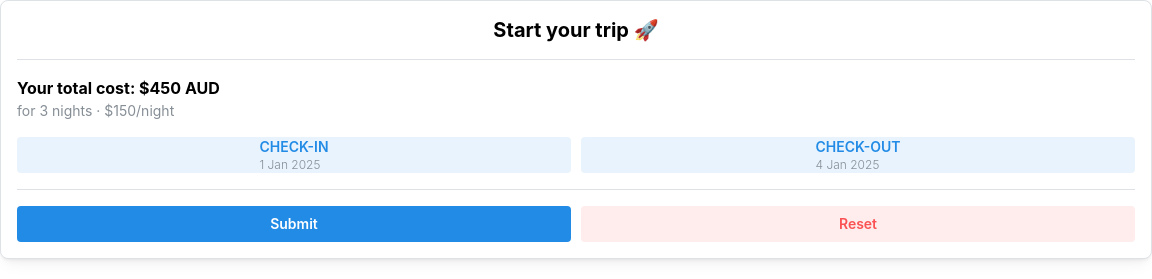
Test: BookListingBox component › computes nights and total price from initial date range and can reset back to default
Expected: the text "Your total cost: $450 AUD" is shown, [17, 78, 220, 98]
Expected: the text "for 3 nights · $150/night" is shown, [17, 102, 174, 119]
Click the button "Reset". click: {"x": 858, "y": 224}
box: [581, 206, 1135, 242]
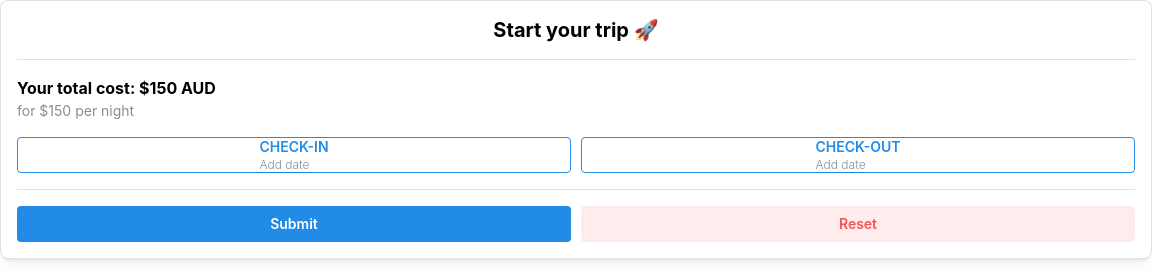
Expected: the text "Your total cost: $150 AUD" is shown, [17, 78, 216, 98]
Expected: the text "for $150 per night" is shown, [17, 102, 134, 119]
Expected: the button "CHECK-IN Add date" is shown, [17, 137, 571, 173]
